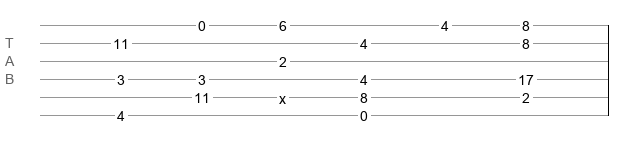0: (198, 18, 206, 28), (360, 108, 368, 118)
11: (113, 36, 129, 46), (194, 90, 210, 100)
17: (518, 72, 534, 82)
2: (279, 54, 287, 64), (522, 90, 530, 100)
3: (117, 72, 125, 82), (198, 72, 206, 82)
4: (117, 108, 125, 118), (360, 72, 368, 82), (360, 36, 368, 46), (441, 18, 449, 28)
6: (279, 18, 287, 28)
8: (360, 90, 368, 100), (522, 36, 530, 46), (522, 18, 530, 28)
x: (279, 91, 286, 99)
